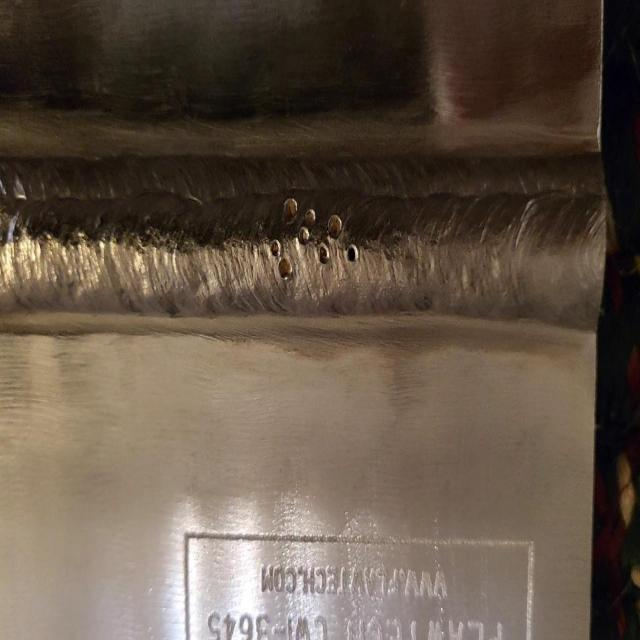Welding Line: (1, 174, 607, 328)
Workpiece: (0, 7, 593, 640)
porosity: (270, 197, 358, 281)
